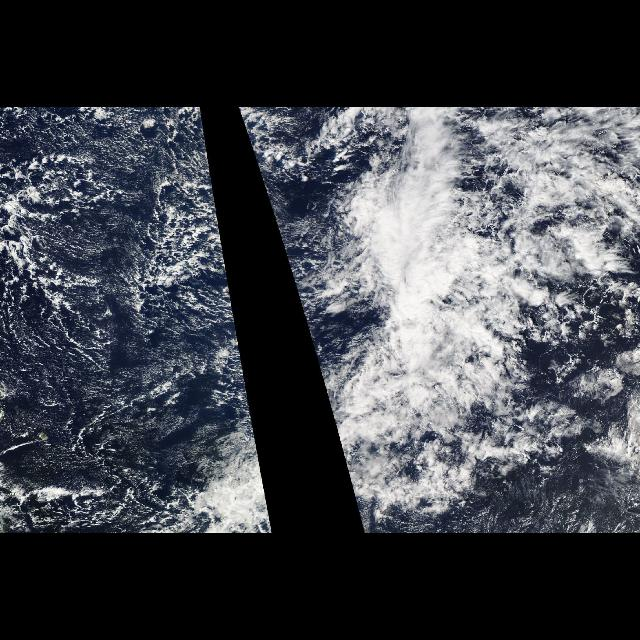Gravel: (2, 110, 264, 484), (240, 110, 282, 244)
Sugar: (5, 310, 225, 474)
